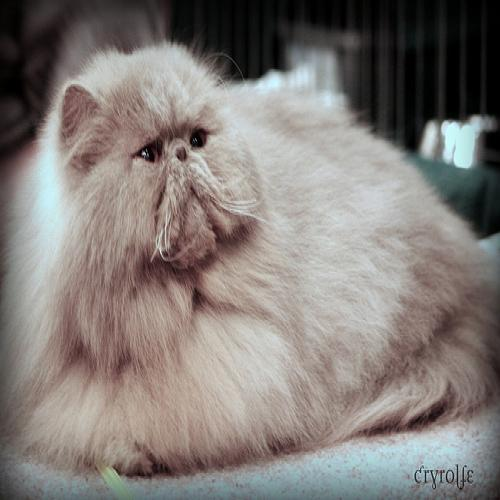persian: (44, 37, 280, 291)
